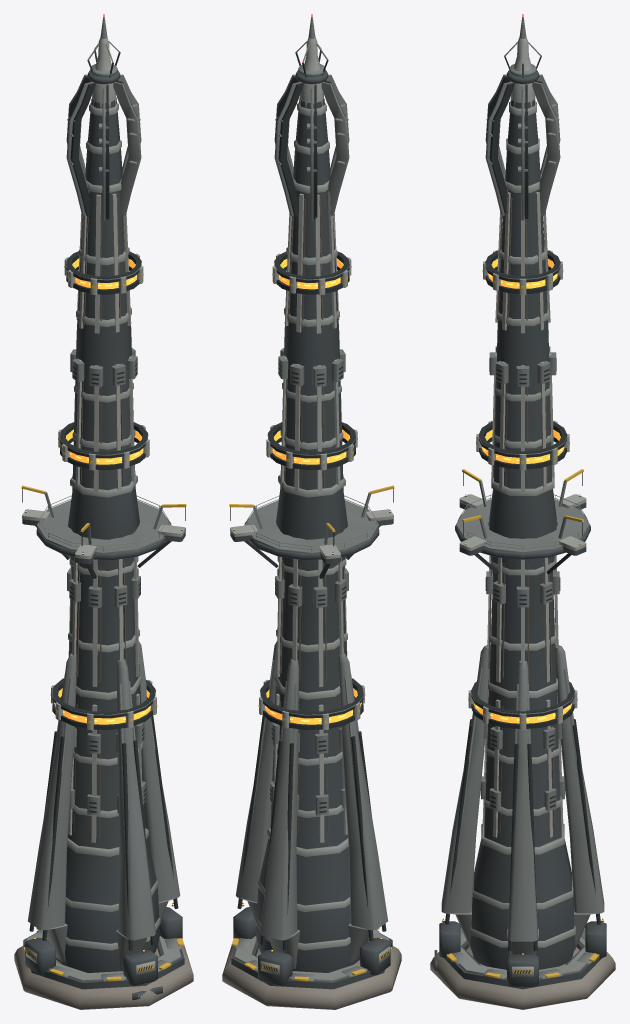
Rendered from extraction_spire_core.glb.
3 renders of one model, left to right at view 1: azimuth 30°, elevation 25°; view 2: azimuth 150°, elevation 25°; view 3: azimuth 270°, elevation 25°, orthographic.
Parts seen in each view (by area): view 1: Armored extraction shaft, Four raked load pylons, Condenser vanes and telemetry, Plasma induction rings, Foundation, Ninety-five meter docking collar; view 2: Armored extraction shaft, Four raked load pylons, Plasma induction rings, Condenser vanes and telemetry, Foundation, Ninety-five meter docking collar; view 3: Armored extraction shaft, Four raked load pylons, Foundation, Plasma induction rings, Condenser vanes and telemetry, Ninety-five meter docking collar.
Boxes of the visible parts, x1,y1,x2,y2 form: Armored extraction shaft: (48, 97, 160, 972); Four raked load pylons: (25, 641, 182, 985); Condenser vanes and telemetry: (66, 14, 141, 220); Plasma induction rings: (50, 251, 157, 730); Foundation: (14, 928, 193, 1009); Ninety-five meter docking collar: (21, 485, 186, 578); Armored extraction shaft: (255, 97, 367, 972); Four raked load pylons: (233, 641, 390, 985); Plasma induction rings: (258, 251, 365, 730); Condenser vanes and telemetry: (274, 14, 349, 220); Foundation: (222, 928, 401, 1009); Ninety-five meter docking collar: (229, 485, 394, 578); Armored extraction shaft: (470, 99, 575, 969); Four raked load pylons: (439, 645, 606, 987); Foundation: (430, 927, 615, 1009); Plasma induction rings: (468, 250, 577, 729); Condenser vanes and telemetry: (485, 14, 560, 220); Ninety-five meter docking collar: (455, 469, 590, 573).
Bounding box in the file's own units: 36 × 206 × 36.
